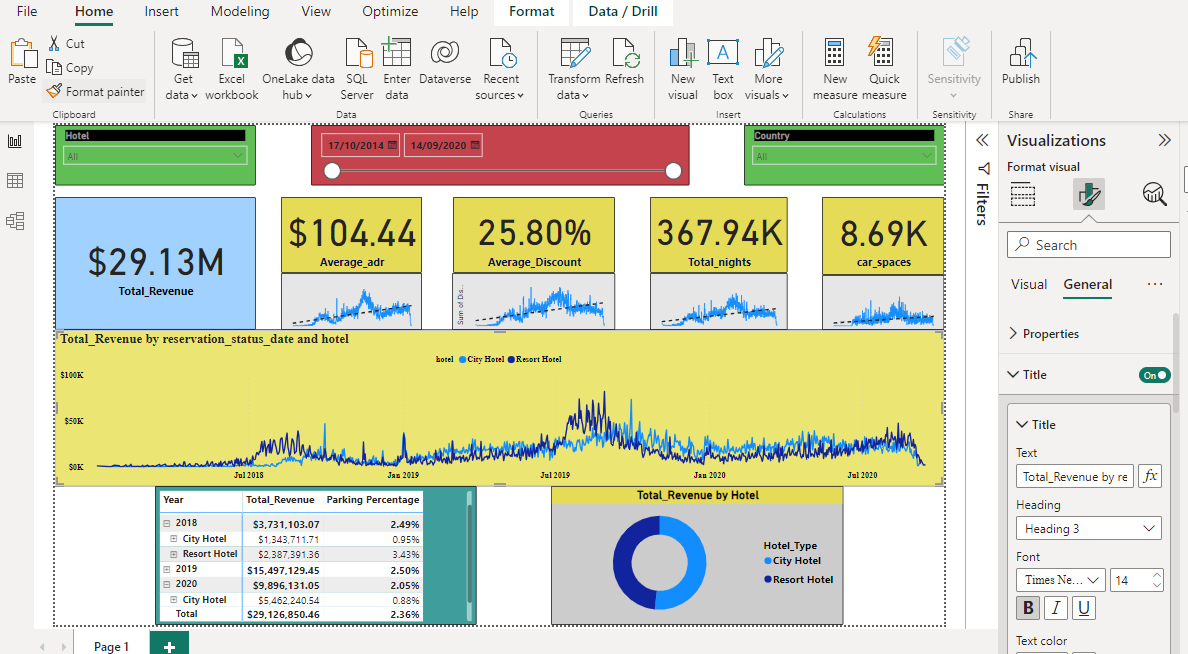

Layout of this report page (visuals, bound fields, positions):
{"tool":"powerbi","page":{"name":"Page 1","canvas":[1280,720],"ordinal":0},"visuals":[{"type":"shape","box":[0,278.5,1280,33.6],"z":0},{"type":"card","fields":{"Values":["Query1.Total_Revenue"]},"box":[0,104,288.5,191.2],"z":1000},{"type":"card","fields":{"Values":["Query1.Total_nights"]},"box":[857.2,104,198,109],"z":2000},{"type":"card","fields":{"Values":["Query1.Average_Discount"]},"box":[573.7,104,233.2,109],"z":3000},{"type":"lineChart","fields":{"Y":["Query1.Total_Revenue"],"Series":["Query1.hotel"],"Category":["Query1.reservation_status_date"]},"box":[0,295.3,1280,224.8],"z":4000},{"type":"card","fields":{"Values":["Query1.Average_adr"]},"box":[325.5,104,203,109],"z":5000},{"type":"slicer","fields":{"Values":["Query1.country"]},"box":[0,0,288.5,87.2],"z":6000},{"type":"slicer","fields":{"Values":["Query1.hotel"]},"box":[991.5,0,288.5,87.2],"z":7000},{"type":"card","fields":{"Values":["Sum(Query1.required_car_parking_spaces)"]},"box":[1103.9,104,176.1,112.4],"z":8000},{"type":"donutChart","title":"Total_Revenue by Hotel","fields":{"Category":["Query1.hotel"],"Y":["Query1.Total_Revenue"]},"box":[714.7,520.1,421.1,199.6],"z":9000},{"type":"pivotTable","fields":{"Rows":["Query1.reservation_status_date.Variation.Date Hierarchy.Year","Query1.hotel","Query1.required_car_parking_spaces"],"Values":["Query1.Total_Revenue","Query1.Parking Percentage"]},"box":[144.3,520.1,463,199.6],"z":10000},{"type":"slicer","fields":{"Values":["Query1.reservation_status_date"]},"box":[369.1,0,545.2,87.2],"z":11000},{"type":"lineChart","fields":{"Category":["Query1.reservation_status_date"],"Y":["Sum(Query1.adr)"]},"box":[325.5,213.1,203,82.2],"z":12000},{"type":"lineChart","fields":{"Category":["Query1.reservation_status_date"],"Y":["Query1.Total_nights"]},"box":[857.2,213.1,198,82.2],"z":13000},{"type":"lineChart","fields":{"Category":["Query1.reservation_status_date"],"Y":["Sum(Query1.Discount)"]},"box":[572.1,213.1,234.9,82.2],"z":14000},{"type":"lineChart","fields":{"Category":["Query1.reservation_status_date"],"Y":["Sum(Query1.required_car_parking_spaces)"]},"box":[1103.9,216.4,176.1,78.8],"z":15000}]}

Visuals, with their boxes on the page's 1280x720 design canvas (x1, y1, x2, y2). These are canvas units, not pixel positions in the 1188x654 screenshot, which may show the page scaled, cropped or inside an application window:
shape: x1=0 y1=278 x2=1280 y2=312
card - Query1.Total_Revenue: x1=0 y1=104 x2=288 y2=295
card - Query1.Total_nights: x1=857 y1=104 x2=1055 y2=213
card - Query1.Average_Discount: x1=574 y1=104 x2=807 y2=213
lineChart - Query1.Total_Revenue x Query1.hotel: x1=0 y1=295 x2=1280 y2=520
card - Query1.Average_adr: x1=326 y1=104 x2=528 y2=213
slicer - Query1.country: x1=0 y1=0 x2=288 y2=87
slicer - Query1.hotel: x1=992 y1=0 x2=1280 y2=87
card - Sum(Query1.required_car_parking_spaces): x1=1104 y1=104 x2=1280 y2=216
"Total_Revenue by Hotel" donutChart: x1=715 y1=520 x2=1136 y2=720
pivotTable - Query1.reservation_status_date.Variation.Date Hierarchy.Year x Query1.hotel: x1=144 y1=520 x2=607 y2=720
slicer - Query1.reservation_status_date: x1=369 y1=0 x2=914 y2=87
lineChart - Query1.reservation_status_date x Sum(Query1.adr): x1=326 y1=213 x2=528 y2=295
lineChart - Query1.reservation_status_date x Query1.Total_nights: x1=857 y1=213 x2=1055 y2=295
lineChart - Query1.reservation_status_date x Sum(Query1.Discount): x1=572 y1=213 x2=807 y2=295
lineChart - Query1.reservation_status_date x Sum(Query1.required_car_parking_spaces): x1=1104 y1=216 x2=1280 y2=295
